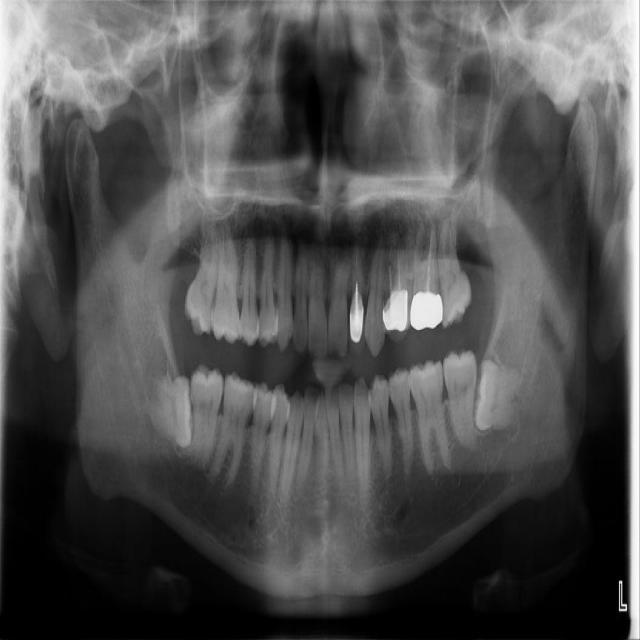52: (410, 291, 443, 330), (382, 290, 408, 332), (348, 291, 364, 342)
73: (382, 233, 409, 312), (413, 221, 441, 296), (350, 234, 366, 308), (602, 588, 610, 597)
BioHorizons Implant: (434, 222, 474, 328)
Biomet 3i Implant: (473, 359, 525, 433)
Blue Sky Bio Implant: (441, 347, 487, 454)
Caries: (181, 209, 224, 337)
Implant: (178, 363, 227, 471)
Keystone Dental Implant: (146, 374, 195, 449)
